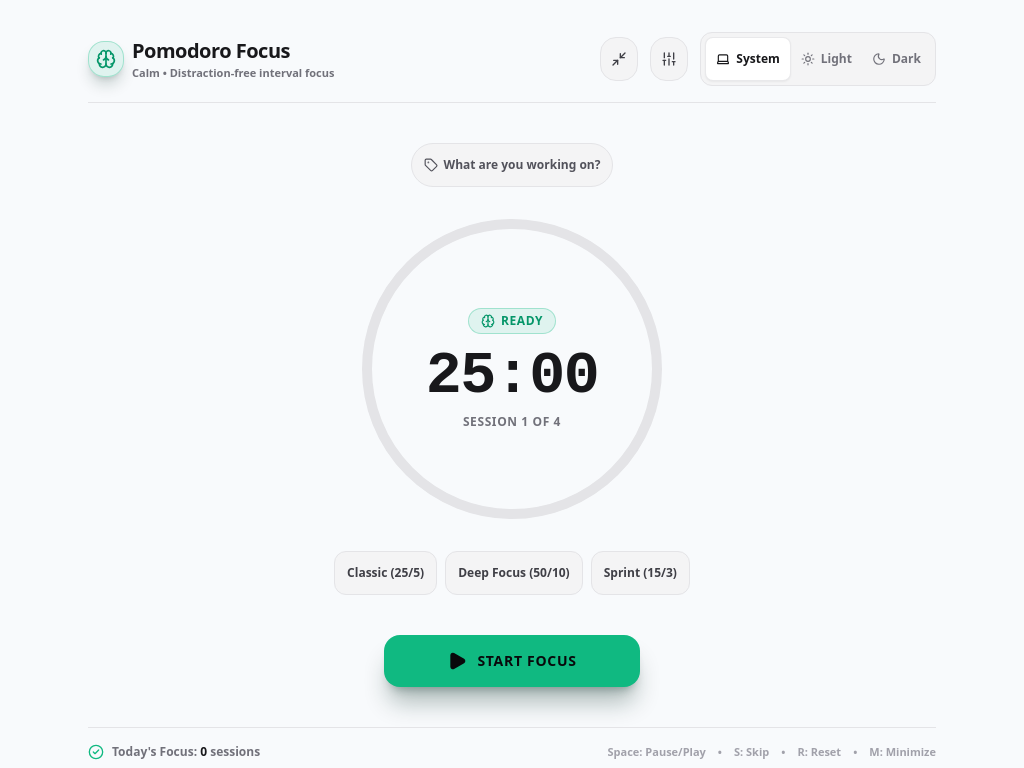
Test case: Focus State & UI Integration Tests (Module 7) › presets update configuration and duration correctly
The width and height of the screenshot is (1024, 768).
// Click Deep Focus preset (50/10)
Click the button "Deep Focus (50/10)": (514, 573) left=445, top=551, right=583, bottom=595
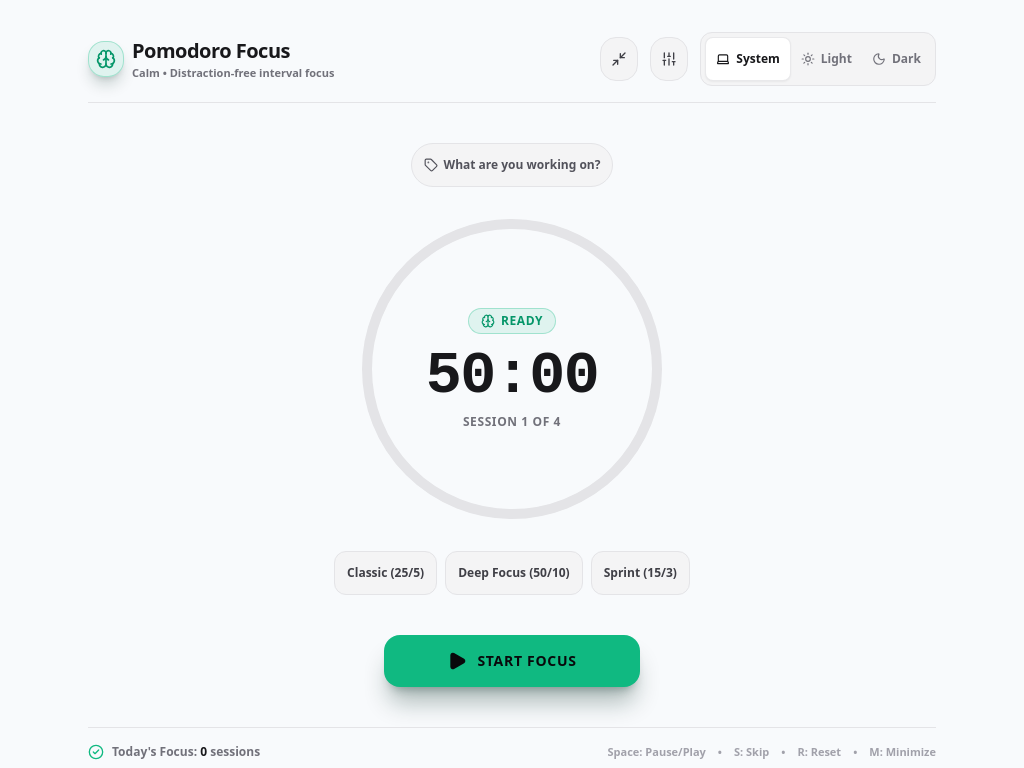
Result: the text "50:00" is shown at left=426, top=346, right=598, bottom=406
